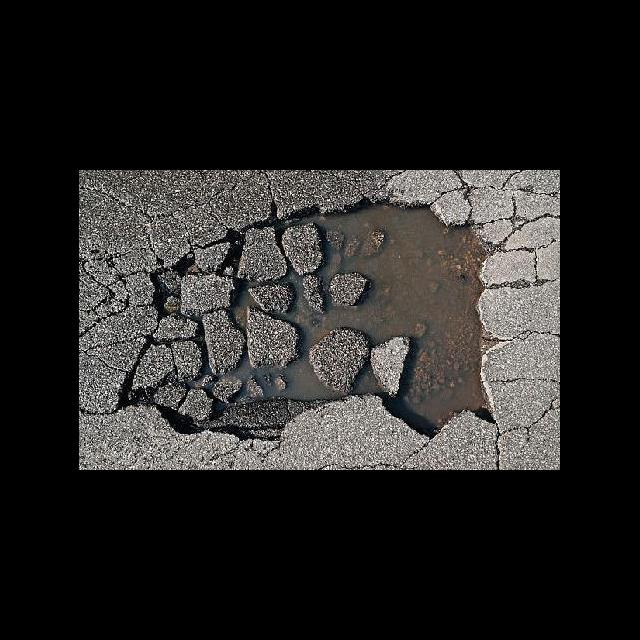lubang_kecil: (110, 178, 520, 457)
